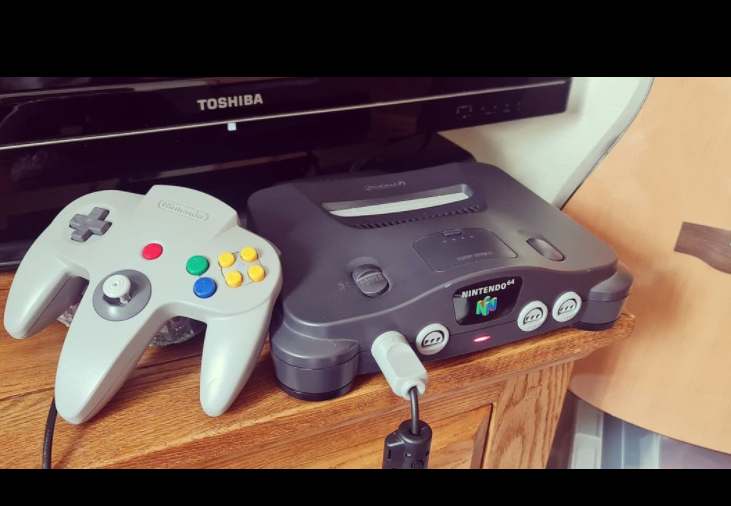gamingconsole: (10, 184, 282, 423)
